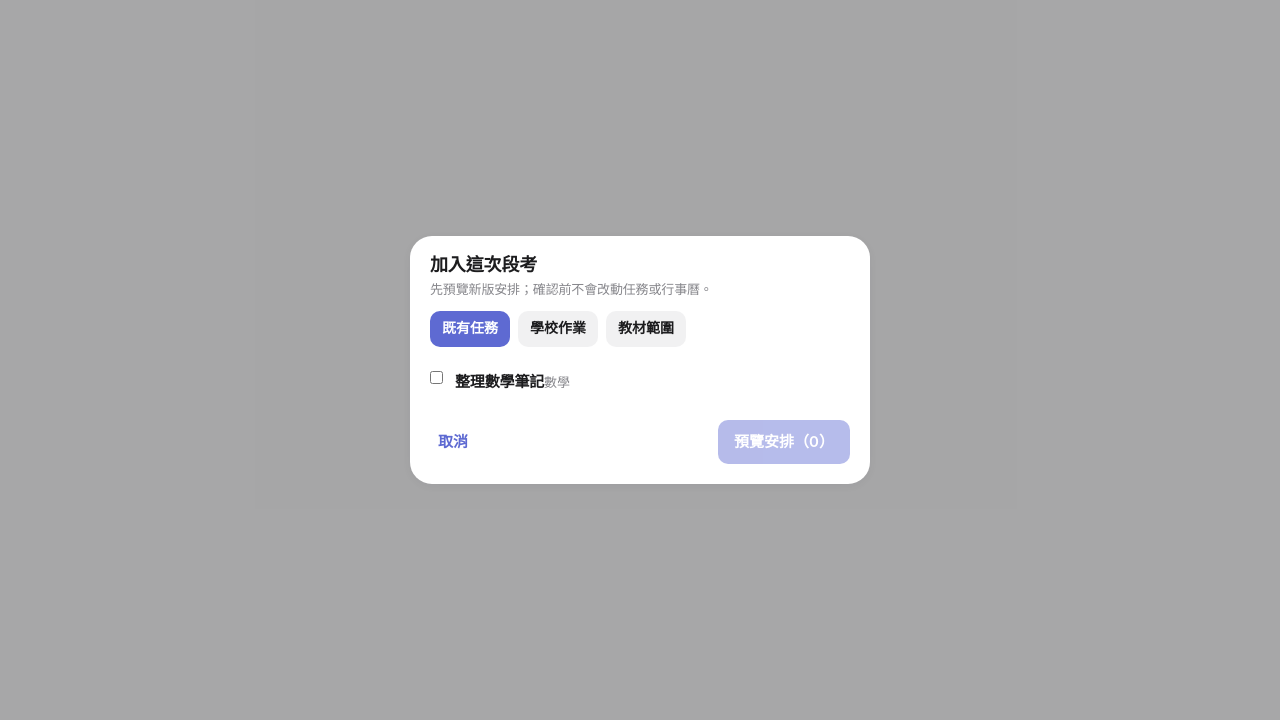
it: PlanContentPicker › 教材清單讀取失敗時不誤報為沒有教材，且可直接重試
The width and height of the screenshot is (1280, 720).
What coordinates should you click on to do the following:
click the button "教材範圍"
I would click on:
 (646, 329)
Its box is [606,311,686,347].
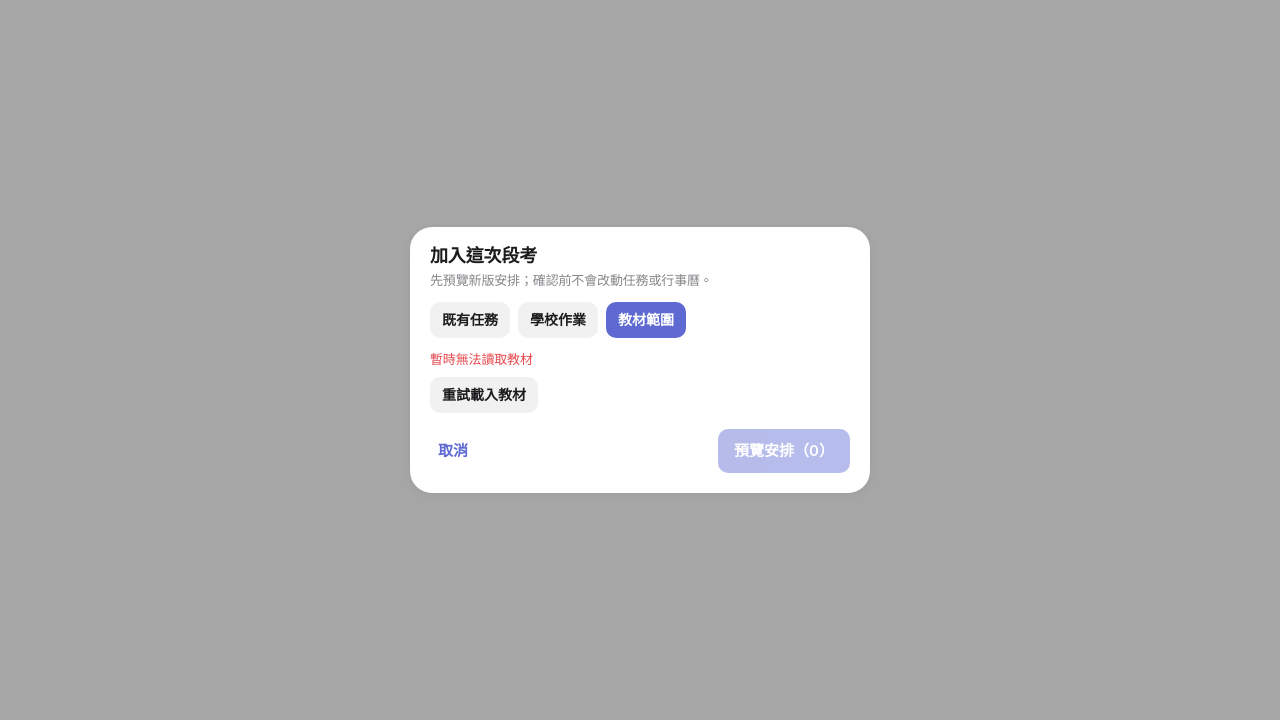
Now the text "暫時無法讀取教材" is shown, box [430,351,533,367]
What coordinates should you click on to do the following:
click the button "重試載入教材"
I would click on:
 (484, 395)
Its box is [430,377,538,413].
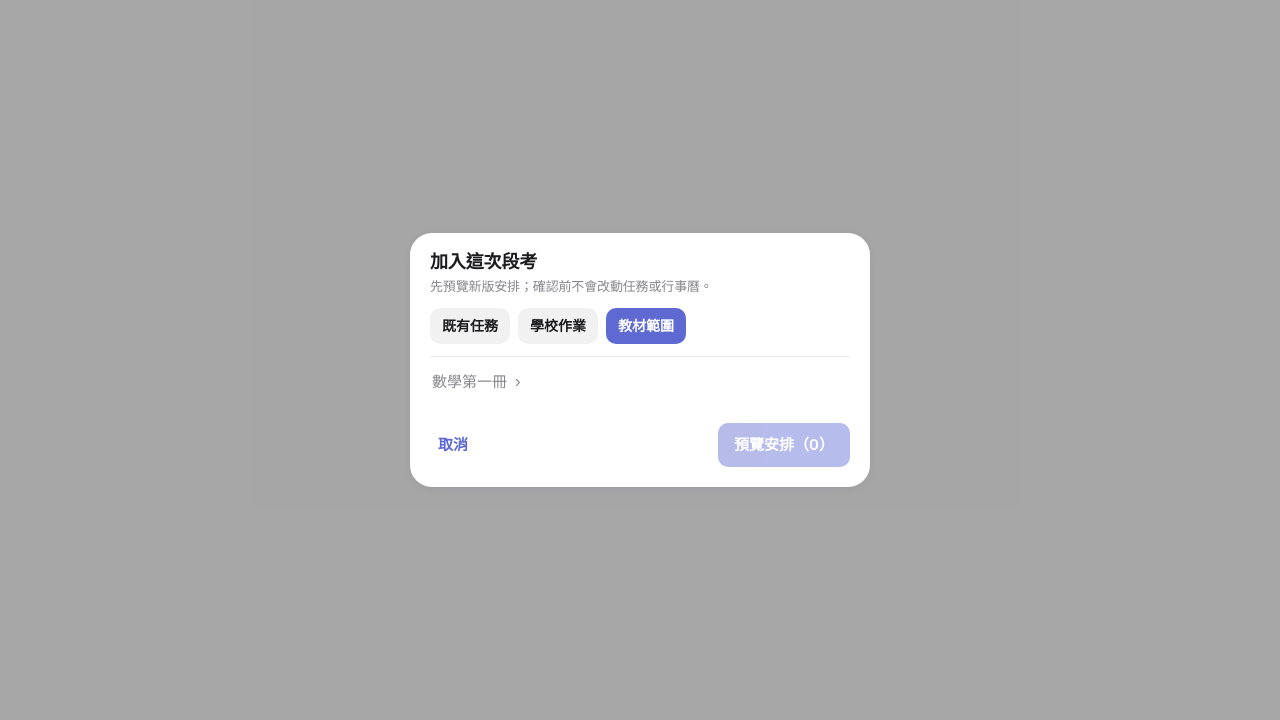
Now the text "數學第一冊" is shown, box [432,371,507,393]
